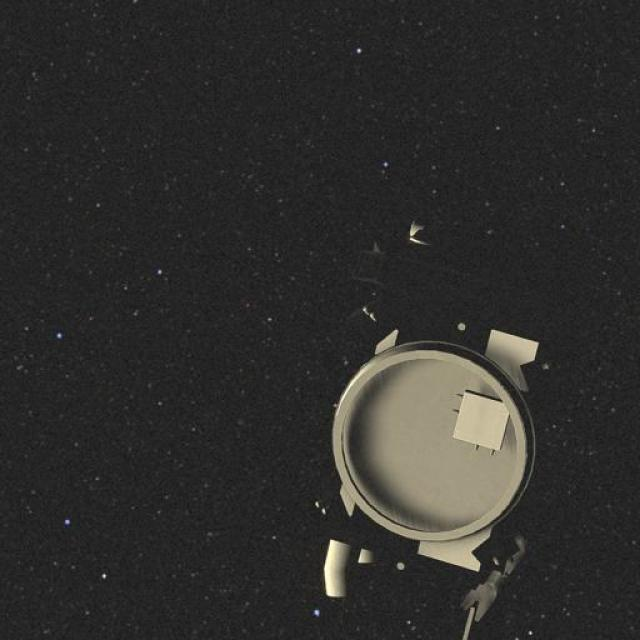proba_3_csc: (305, 226, 557, 640)
